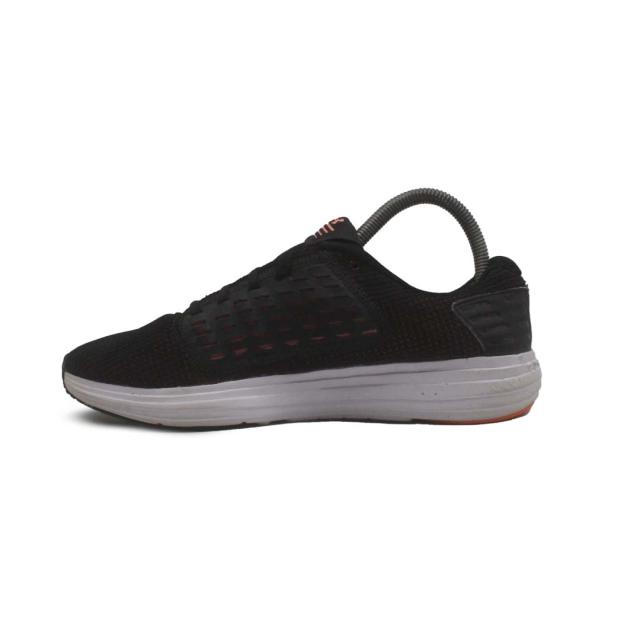heel: (465, 257, 532, 359)
midsole: (63, 352, 544, 430)
uppersole: (58, 214, 466, 389)
